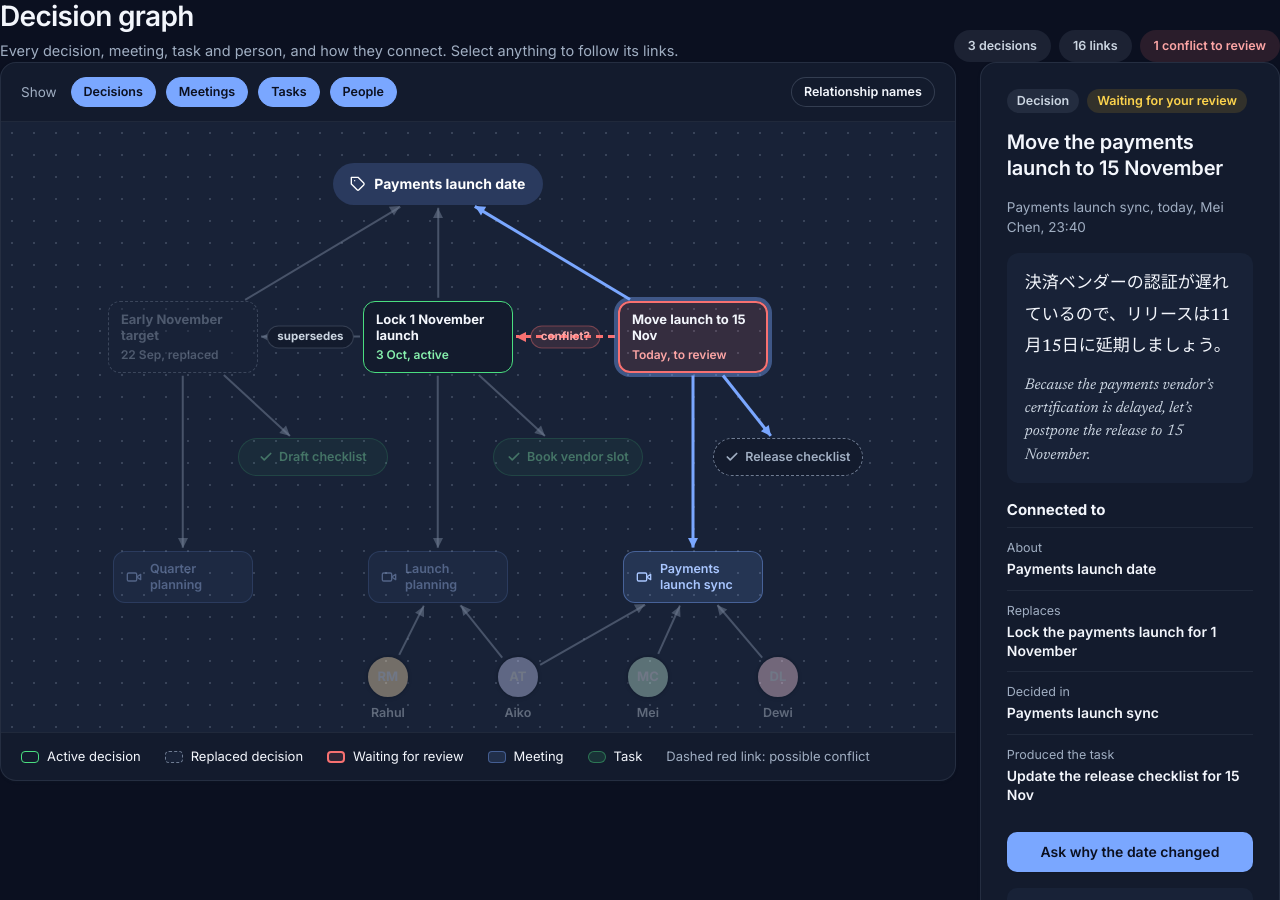
Test: selection › selects a node on click and moves the dimming with it
Click the button with aria-label "Decision: Target an early November launch" at (183,337), box left=108, top=301, right=258, bottom=373
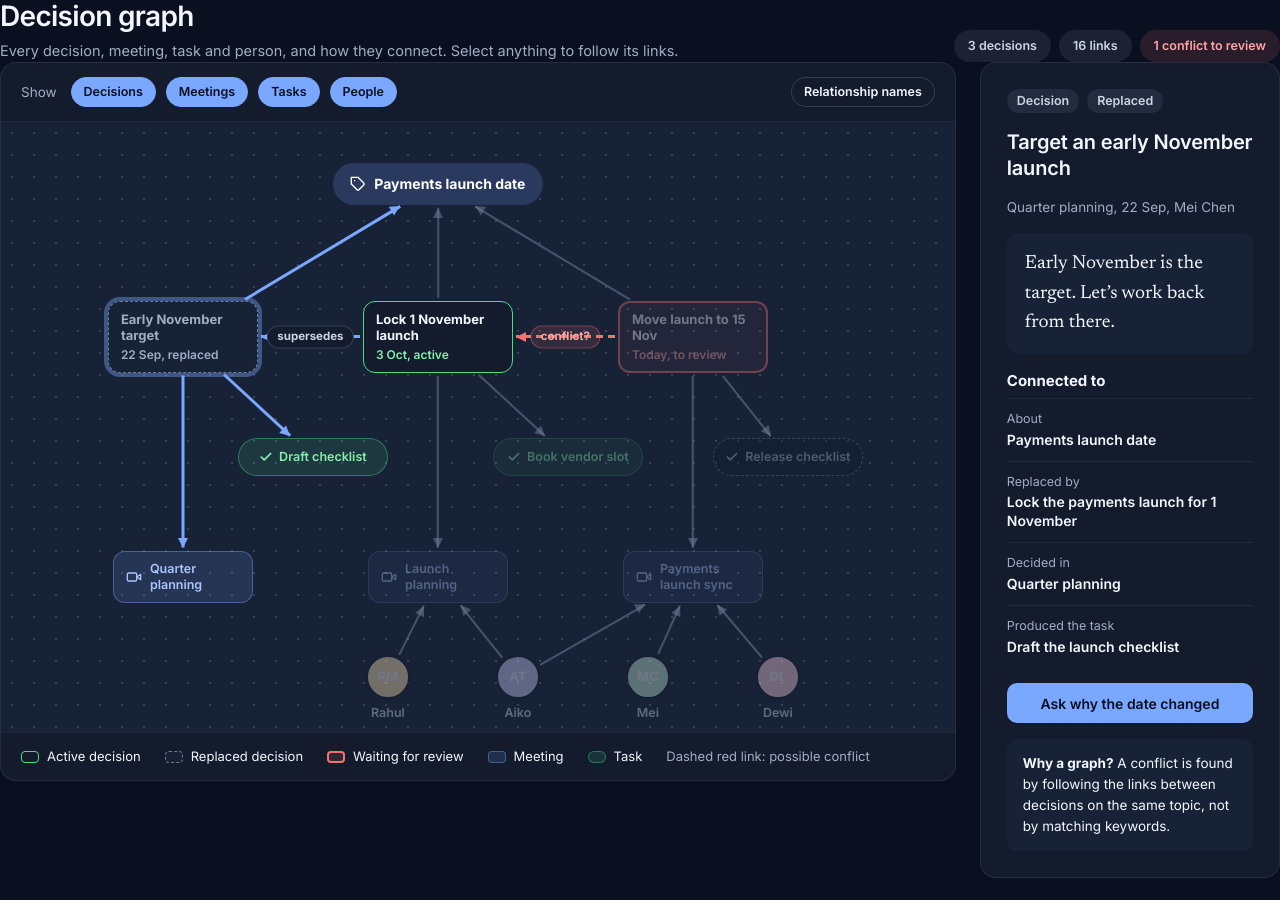
Expected: the heading "Target an early November launch" is shown, left=1007, top=129, right=1253, bottom=181
